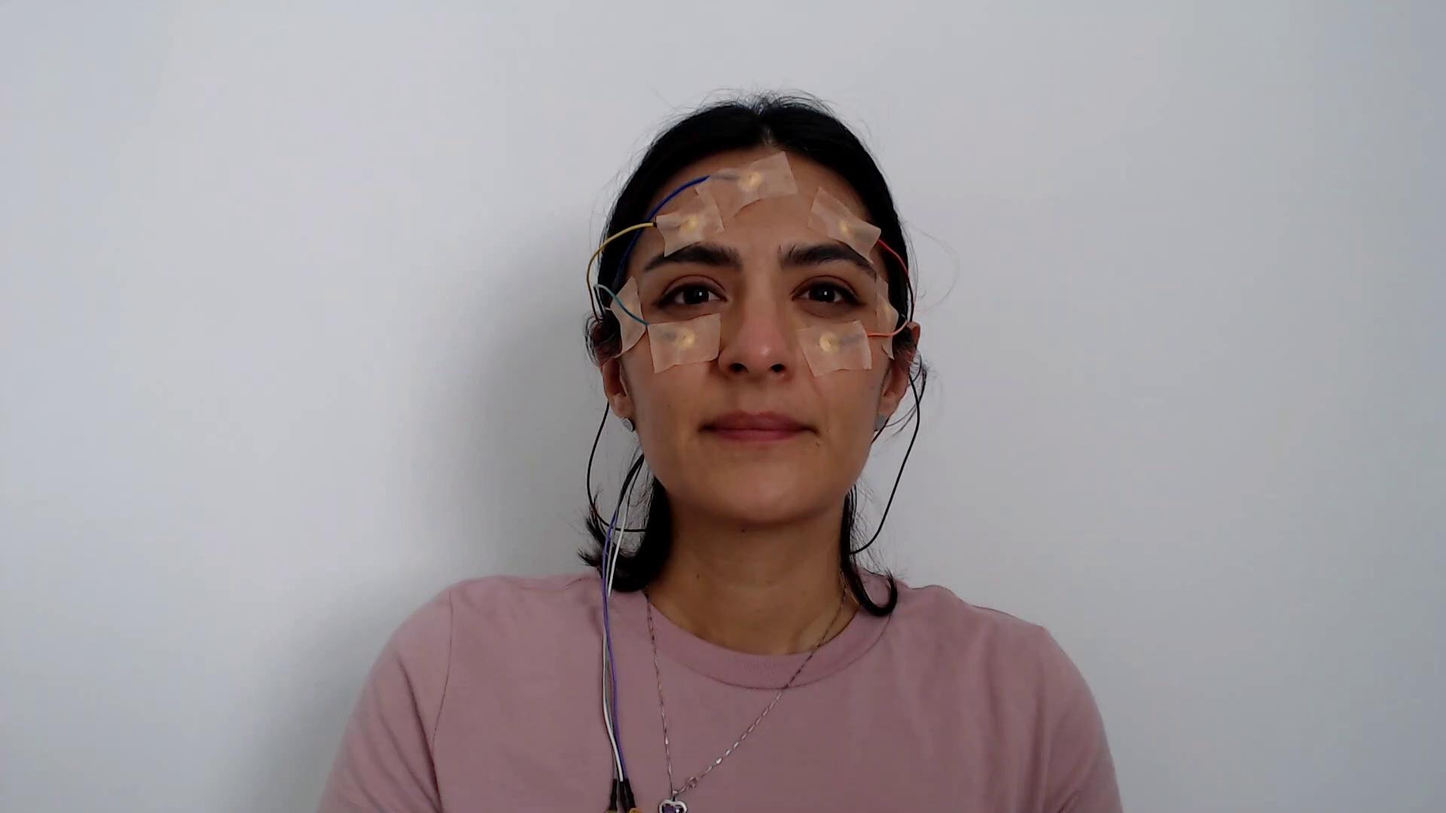Iris: (809, 284, 835, 304), (684, 287, 709, 305)
Ojos: (654, 274, 730, 311), (792, 274, 865, 308)
